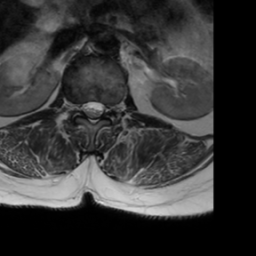CCS_normal: (89, 92, 97, 130)
LFS_normal: (106, 92, 114, 122)
LLS_normal: (97, 92, 106, 123)
RFS_normal: (73, 93, 81, 122)
RLS_normal: (81, 92, 89, 123)
